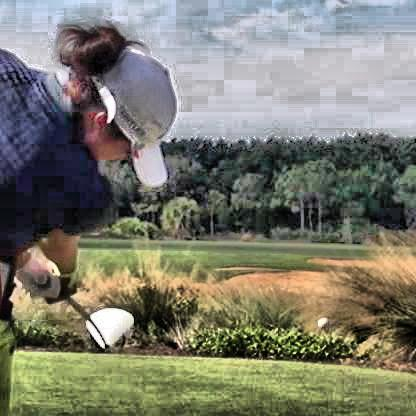golfball: (314, 315, 325, 328)
